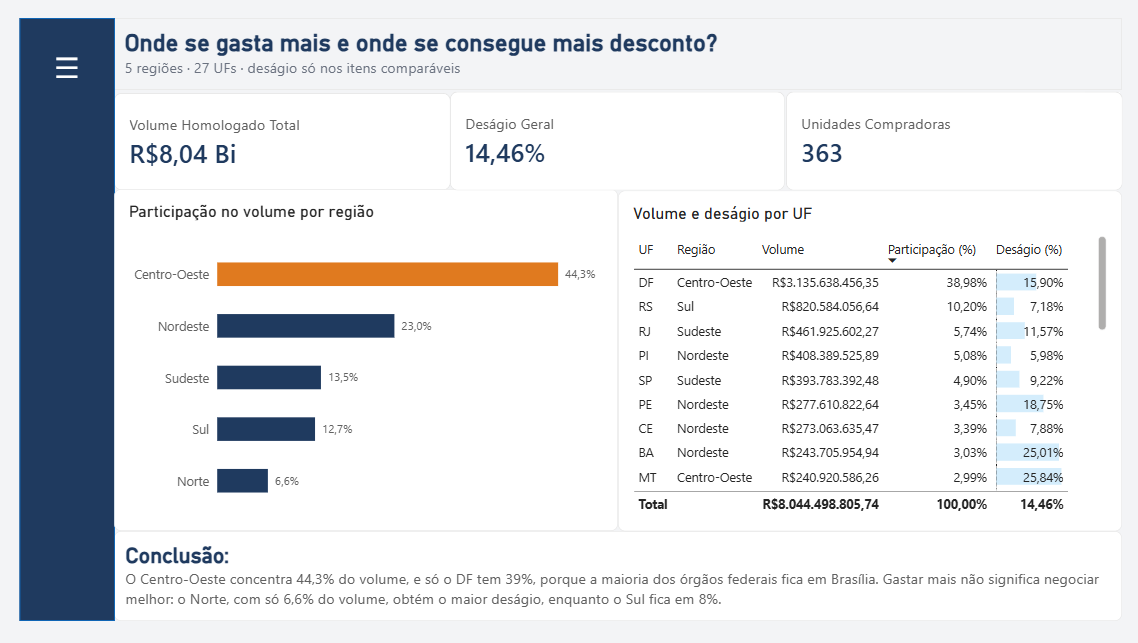

Layout of this report page (visuals, bound fields, positions):
{"tool":"powerbi","page":{"name":"5 Regional","canvas":[1280,720],"ordinal":5},"visuals":[{"type":"textbox","title":"Onde se gasta mais e onde se consegue mais desconto?","box":[134,24,1120,80],"z":0},{"type":"cardVisual","fields":{"Data":["_Medidas.Volume Homologado"]},"box":[133.6,106.6,374,108.2],"z":1000},{"type":"cardVisual","fields":{"Data":["_Medidas.Qtd Unidades Compradoras"]},"box":[879.6,105,374,110],"z":2000},{"type":"textbox","title":"  Conclusão:","box":[134,594,1120,100],"z":3000},{"type":"shape","box":[28,24,106,670],"z":4000},{"type":"barChart","title":"Participação no volume por região","fields":{"Category":["dim_localidade.regiao"],"Y":["_Medidas.Participacao Volume Pct"]},"box":[134,214,560,380],"z":5000},{"type":"cardVisual","fields":{"Data":["_Medidas.Economia Pct"]},"box":[506.7,105,373.3,110],"z":6000},{"type":"tableEx","title":"Volume e deságio por UF","fields":{"Values":["dim_localidade.uf_sigla","dim_localidade.regiao","_Medidas.Volume Homologado","_Medidas.Participacao Volume Pct","_Medidas.Economia Pct"]},"box":[693.2,215.7,559.9,378.7],"z":7000},{"type":"actionButton","title":"Botão menu","box":[27.7,24.6,104.6,104.6],"z":8000}]}

Visuals, with their boxes in screenshot pixels (x1, y1, x2, y2), scaled from the page's 1280x720 canvas onto the 1138x643 screenshot:
"Onde se gasta mais e onde se consegue mais desconto?" textbox: (119,21,1115,93)
cardVisual - _Medidas.Volume Homologado: (119,95,451,192)
cardVisual - _Medidas.Qtd Unidades Compradoras: (782,94,1115,192)
"  Conclusão:" textbox: (119,530,1115,620)
shape: (25,21,119,620)
"Participação no volume por região" barChart: (119,191,617,530)
cardVisual - _Medidas.Economia Pct: (450,94,782,192)
"Volume e deságio por UF" tableEx: (616,193,1114,531)
"Botão menu" actionButton: (25,22,118,115)
